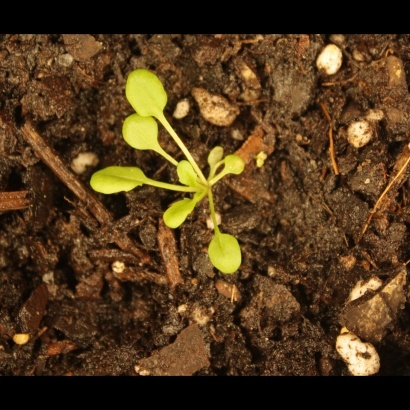leaf: (121, 64, 170, 122), (205, 227, 249, 281), (87, 164, 157, 197), (111, 113, 166, 153), (160, 197, 201, 235), (171, 157, 200, 190), (201, 141, 224, 174), (224, 152, 247, 175)
